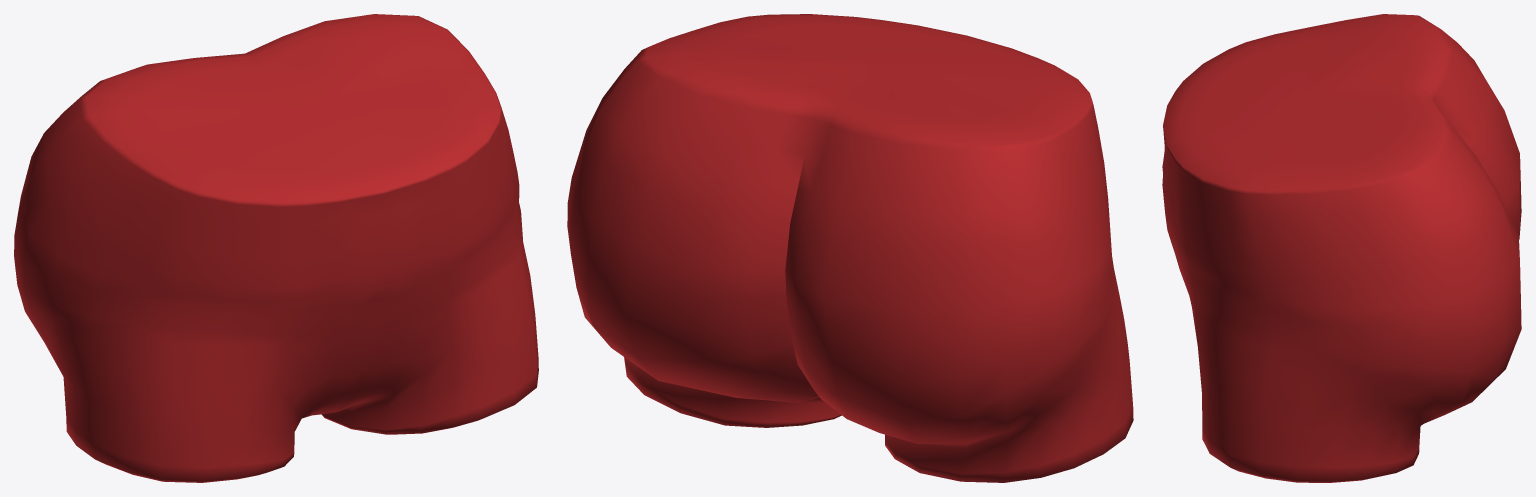
File: ass.fbx
The picture shows the model from 3 angles, left to right: view 1: azimuth 30°, elevation 25°; view 2: azimuth 150°, elevation 25°; view 3: azimuth 270°, elevation 25°; orthographic projection. The views are drawn at different scales.
Parts seen in each view (by area): view 1: ass; view 2: ass; view 3: ass.
Boxes of the visible parts, box(x1,y1,x2,y2) form: ass: box(14, 14, 538, 482); ass: box(567, 14, 1133, 482); ass: box(1162, 14, 1521, 482).
Bounding box in the file's own units: 52.98 × 37.49 × 37.71.
